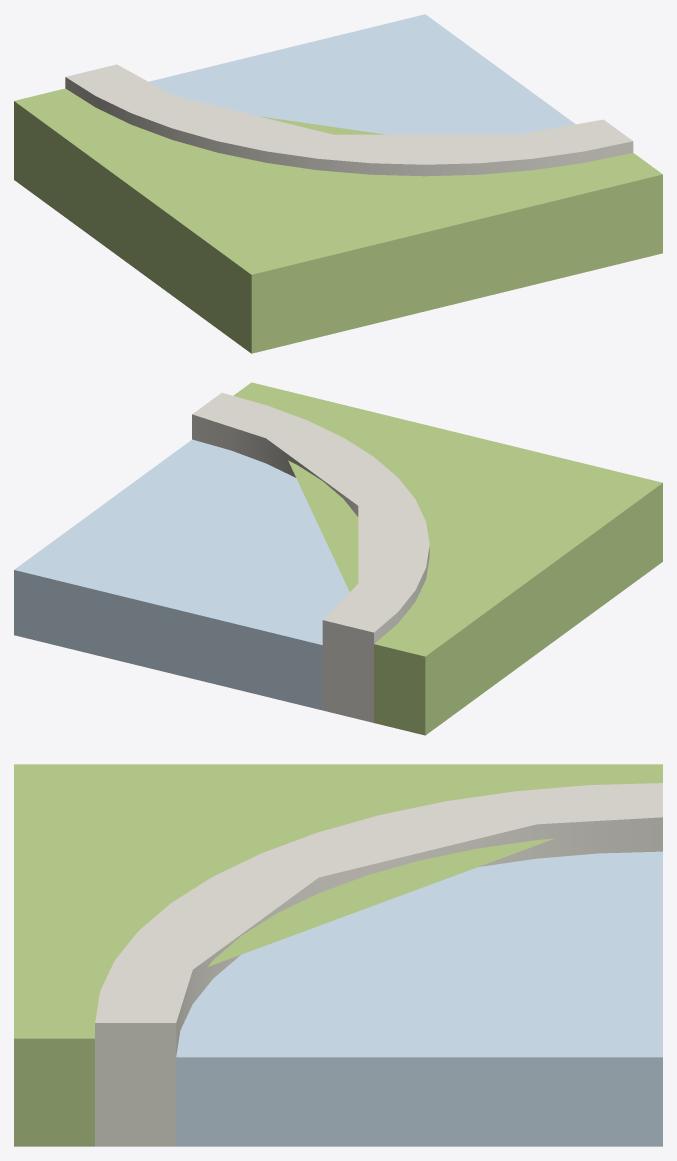
The model's file is roadTile_243.glb.
3 renders of one model, top to bottom at view 1: azimuth 30°, elevation 25°; view 2: azimuth 150°, elevation 25°; view 3: azimuth 270°, elevation 25°, orthographic. The views are drawn at different scales.
Parts seen in each view (by area): view 1: Mesh1 Group1 Model; view 2: Mesh1 Group1 Model; view 3: Mesh1 Group1 Model.
Boxes of the visible parts, x1=… form: Mesh1 Group1 Model: x1=14, y1=14, x2=662, y2=353; Mesh1 Group1 Model: x1=14, y1=382, x2=662, y2=735; Mesh1 Group1 Model: x1=14, y1=764, x2=662, y2=1146.
Size of the model in its own units: 3 by 0.63 by 3.
